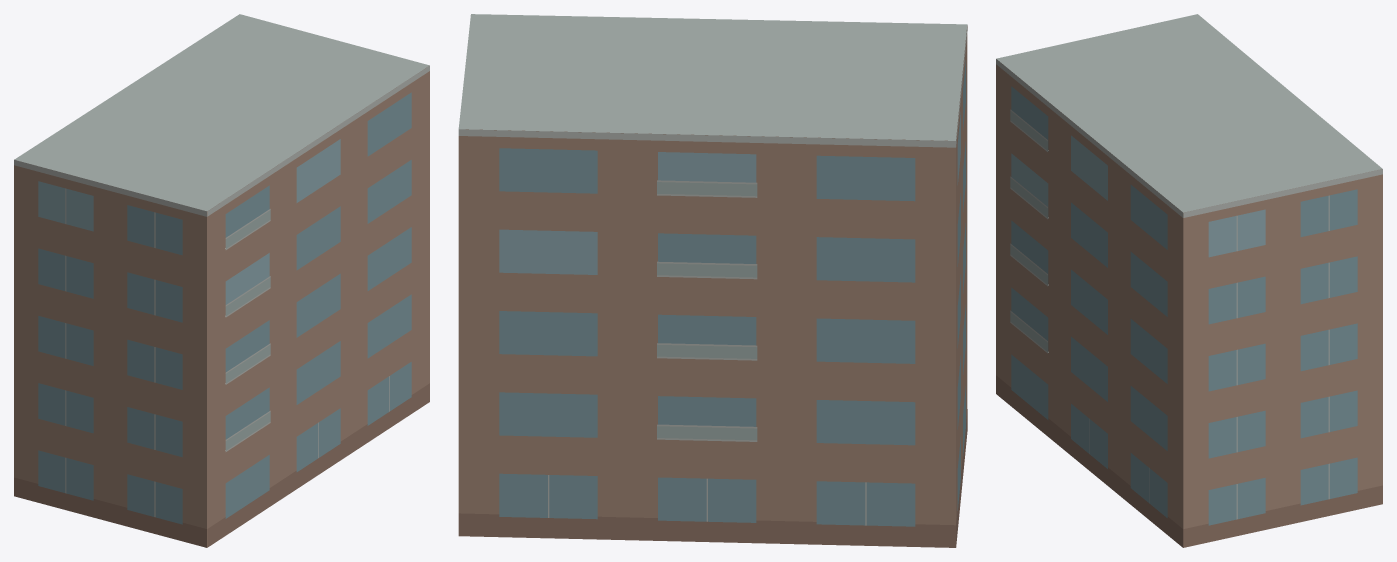
File: survey-upis-32830622.glb
3 views of the same model, side by side, from view 1: azimuth 30°, elevation 25°; view 2: azimuth 150°, elevation 25°; view 3: azimuth 270°, elevation 25° (orthographic). The views are drawn at different scales.
Visible parts, largest first — view 1: survey-upis-32830622.tmp; view 2: survey-upis-32830622.tmp; view 3: survey-upis-32830622.tmp.
Boxes of the visible parts, x1,y1,x2,y2 form: survey-upis-32830622.tmp: (14,14,429,547); survey-upis-32830622.tmp: (458,14,967,547); survey-upis-32830622.tmp: (996,14,1382,547).
Size of the model in its own units: 18.77 by 14.77 by 15.45.
